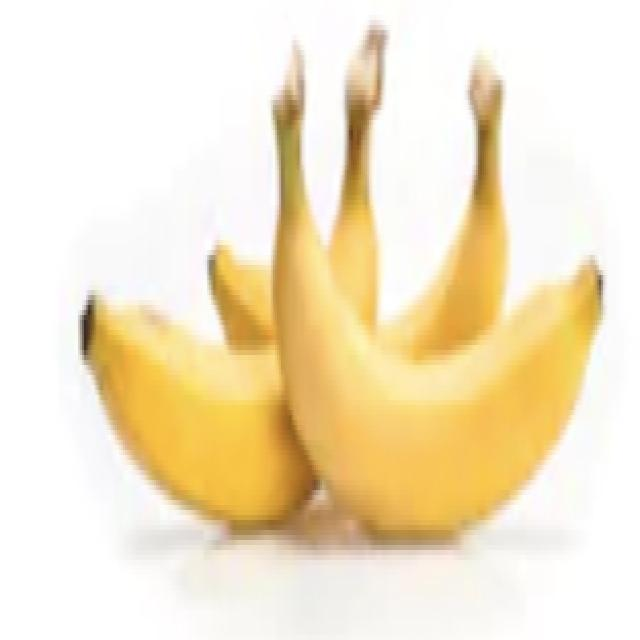Banana: (267, 18, 604, 542), (80, 239, 316, 533)
